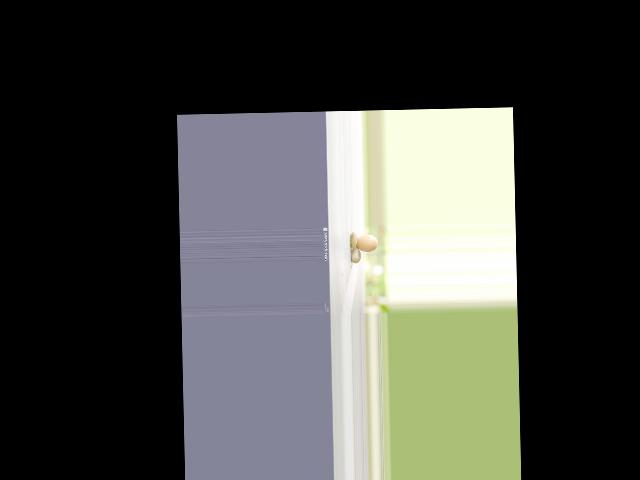egg: (356, 234, 377, 252)
